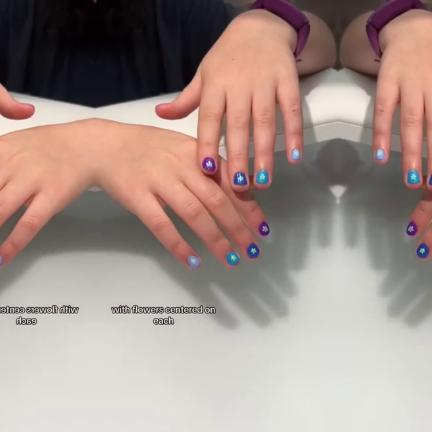Nail: (225, 251, 239, 266), (246, 243, 259, 259), (415, 243, 428, 259), (201, 157, 215, 171), (255, 169, 268, 184), (406, 169, 419, 184), (257, 221, 269, 237), (405, 221, 417, 237), (233, 172, 246, 186), (186, 255, 199, 268), (290, 148, 300, 160), (374, 148, 384, 160), (428, 173, 432, 186), (0, 257, 2, 264)
